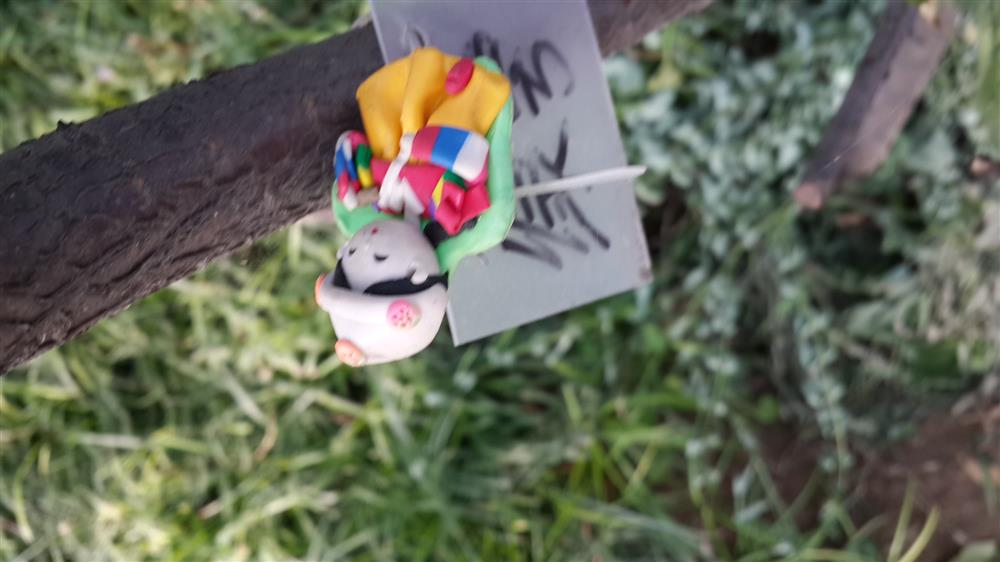clay_figurine: (311, 51, 524, 369)
